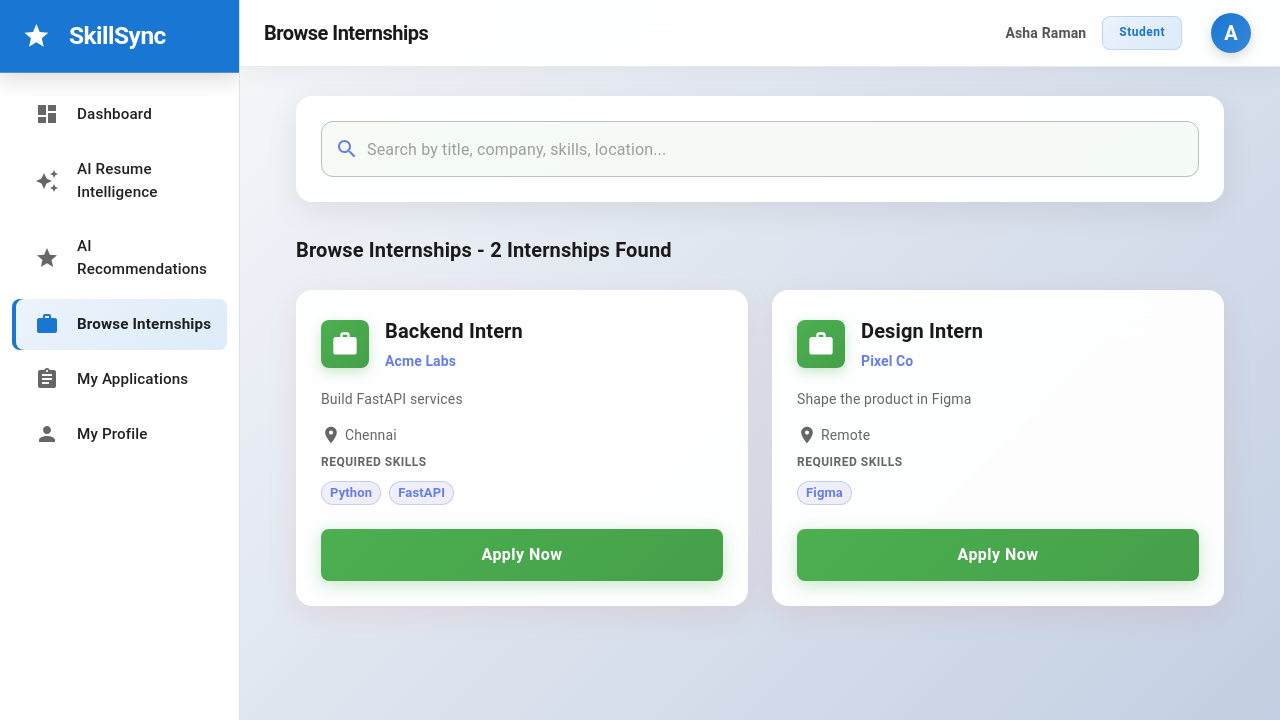
Test: a failed application stays in the dialog with the error
Click the button "Apply Now" below "Python" at (522, 555), box [321,529,723,581]
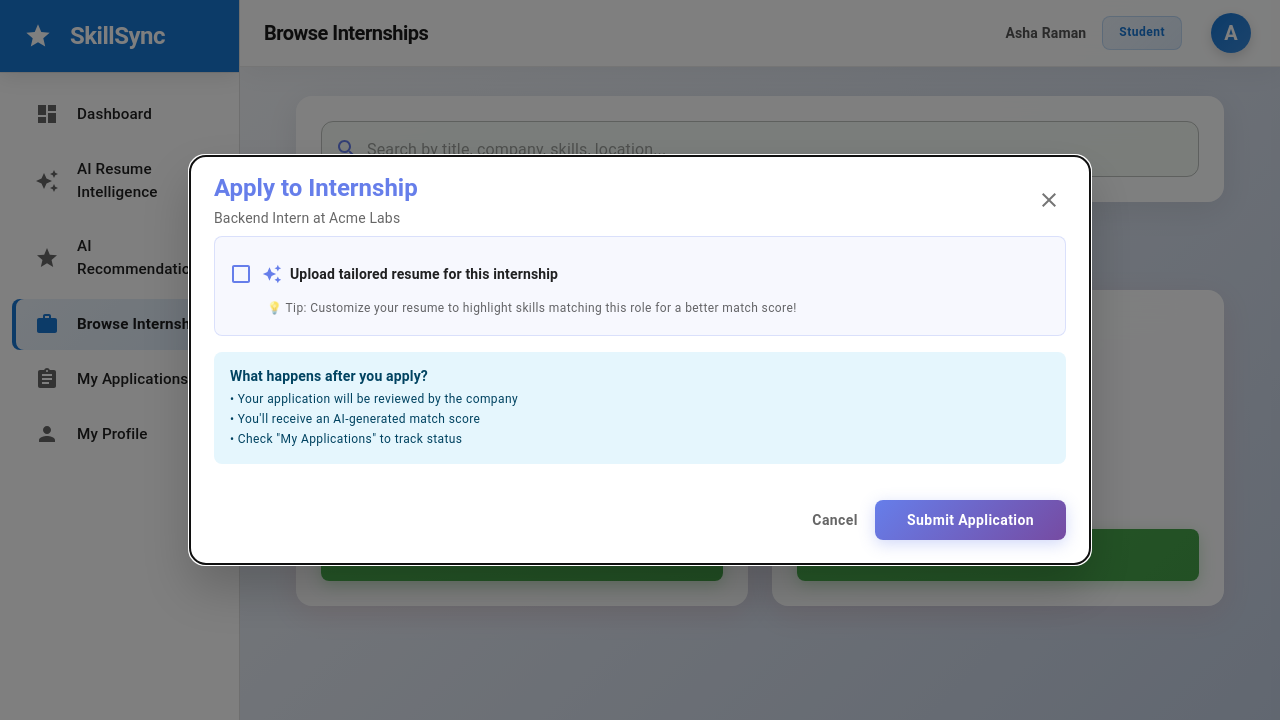
Click the button "Submit Application" at (971, 520), box [875,500,1066,540]
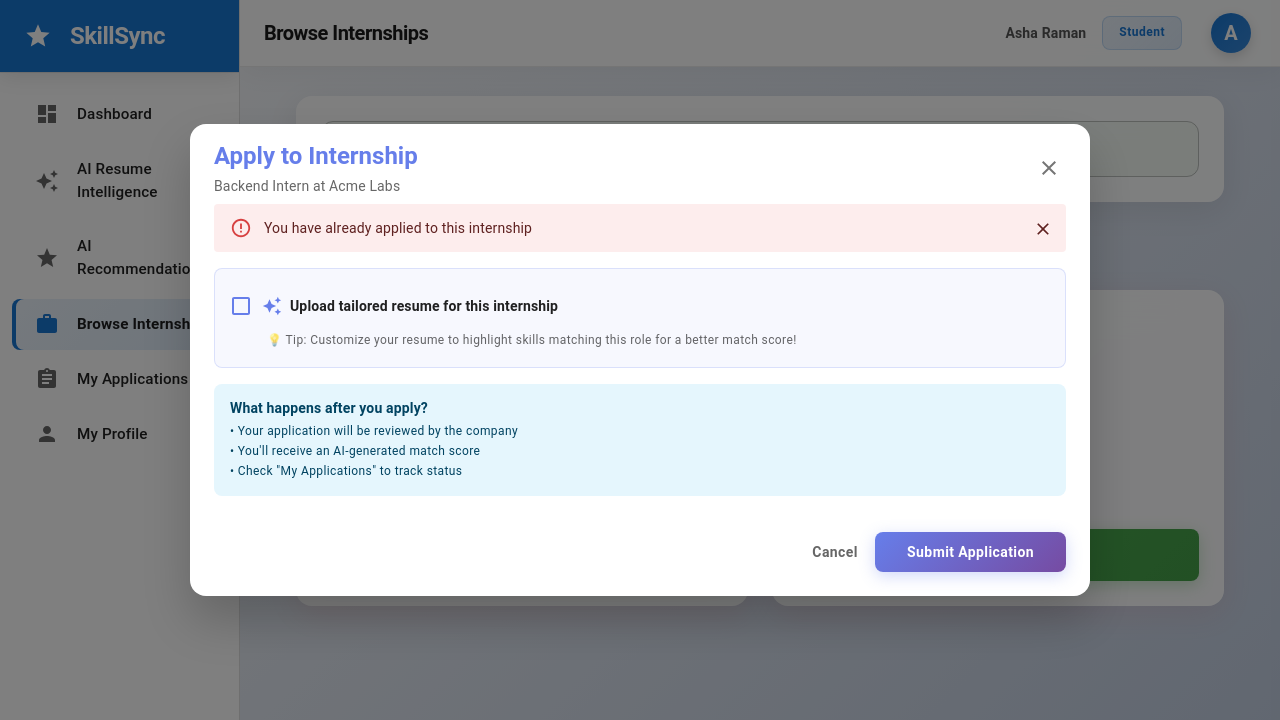
Expected: the text "You have already applied to this internship" is shown, [264,220,532,236]
